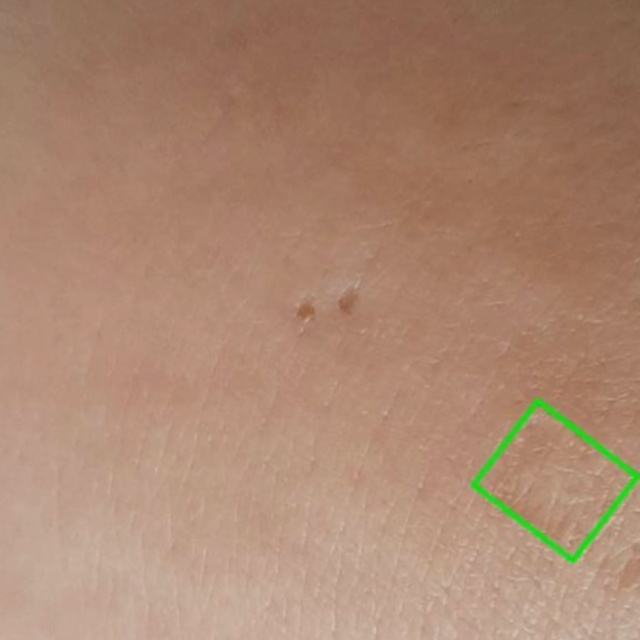Contact Dermatitis: (473, 399, 637, 560)
